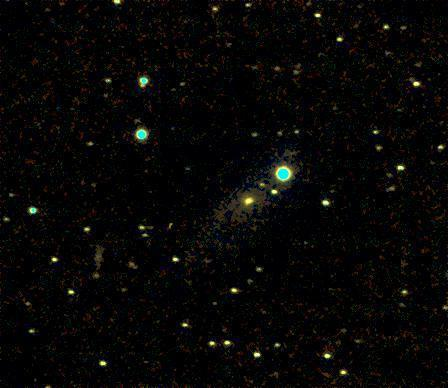star: (231, 185, 261, 215)
